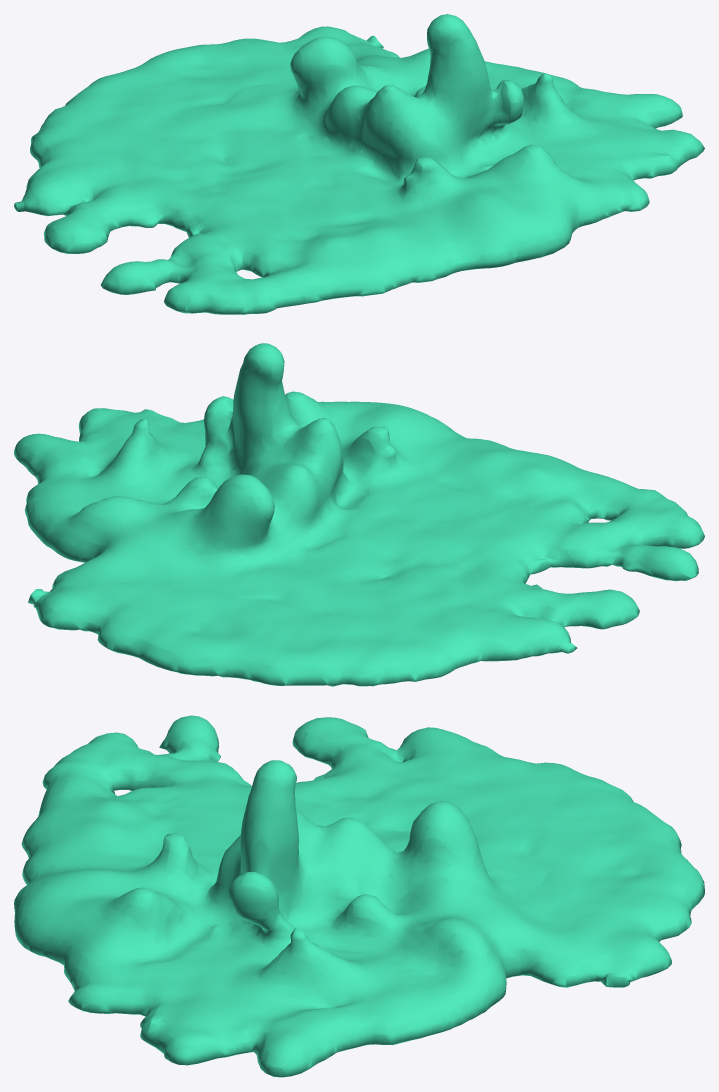
3 renders of one model, top to bottom at view 1: azimuth 30°, elevation 25°; view 2: azimuth 150°, elevation 25°; view 3: azimuth 270°, elevation 25°, orthographic. The views are drawn at different scales.
Parts seen in each view (by area): view 1: Liquid_Domain; view 2: Liquid_Domain; view 3: Liquid_Domain.
Part boxes in pixels (x1,y1,x2,y2): Liquid_Domain: (14, 14, 704, 314); Liquid_Domain: (14, 343, 704, 686); Liquid_Domain: (14, 715, 704, 1077).
Size of the model in its own units: 13.99 by 3.49 by 11.69.
